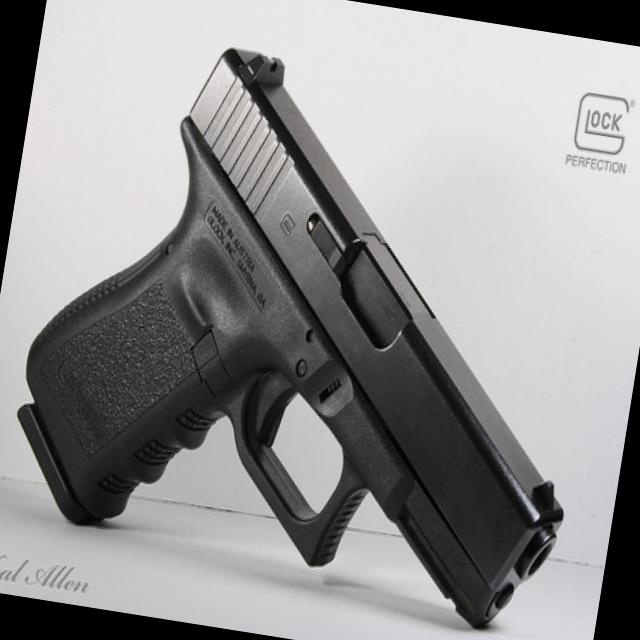handgun: (0, 19, 626, 638)
